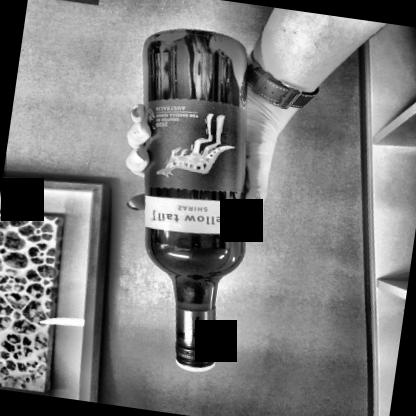yellowtail: (134, 91, 256, 240)
